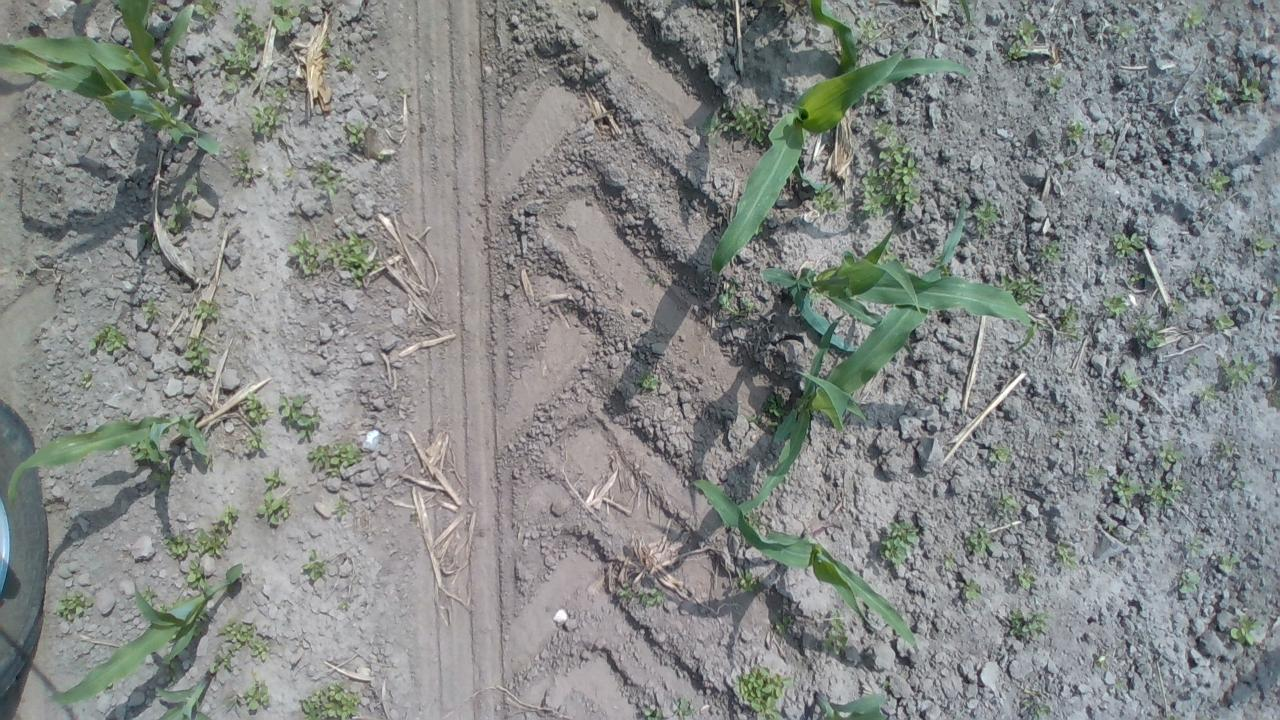Maize: (727, 198, 973, 520), (708, 44, 979, 274), (691, 474, 935, 658), (752, 244, 1041, 354), (47, 557, 253, 710), (0, 44, 230, 160), (2, 399, 222, 510), (7, 0, 210, 104), (150, 652, 233, 720), (804, 683, 898, 720)
Weeds: (858, 123, 928, 226), (730, 660, 789, 720), (304, 437, 378, 483), (326, 226, 378, 284), (216, 618, 278, 666), (296, 678, 364, 720), (706, 266, 758, 320), (1002, 10, 1056, 62), (162, 178, 206, 240), (250, 82, 296, 140), (211, 39, 261, 90), (284, 232, 330, 284), (1110, 477, 1186, 508), (160, 528, 237, 558), (875, 517, 921, 567), (730, 96, 776, 144), (276, 390, 322, 437), (610, 578, 676, 610), (1001, 606, 1056, 644), (182, 332, 222, 384), (1106, 230, 1160, 268), (1214, 346, 1258, 390), (302, 154, 348, 196), (754, 386, 794, 432), (228, 6, 268, 52), (638, 690, 696, 720), (818, 608, 854, 656), (809, 176, 847, 220), (232, 680, 278, 716), (998, 272, 1045, 307), (52, 592, 105, 623), (257, 486, 292, 531), (266, 0, 300, 46), (342, 116, 378, 158), (84, 321, 126, 356), (1046, 303, 1084, 340), (1096, 286, 1133, 322), (963, 522, 998, 560), (1189, 267, 1224, 305), (1133, 324, 1172, 358), (1232, 606, 1263, 648), (188, 292, 228, 324), (967, 200, 1008, 230), (236, 430, 272, 464), (1203, 160, 1231, 203), (1052, 539, 1086, 574), (231, 144, 263, 181), (294, 555, 336, 583), (124, 439, 160, 471), (1004, 564, 1040, 596), (1172, 570, 1208, 602), (1016, 689, 1054, 719), (179, 556, 208, 594), (1106, 18, 1144, 47), (128, 295, 164, 325), (991, 486, 1024, 518), (1172, 532, 1208, 561), (1233, 74, 1263, 108), (1040, 66, 1070, 100), (1176, 6, 1212, 34), (240, 390, 271, 422), (630, 362, 662, 393), (1036, 237, 1068, 268), (771, 610, 801, 640), (198, 0, 234, 24), (1208, 311, 1238, 339), (1198, 76, 1224, 108), (854, 12, 880, 44), (1094, 406, 1126, 431), (1248, 234, 1273, 264), (735, 569, 764, 594), (216, 506, 240, 536), (1162, 298, 1186, 328), (1094, 132, 1118, 162), (1222, 472, 1254, 494), (330, 494, 358, 519), (931, 552, 961, 574), (71, 363, 97, 387), (1156, 444, 1184, 466), (1064, 114, 1084, 143), (960, 580, 984, 604), (1216, 552, 1238, 577), (260, 468, 285, 489), (1126, 272, 1151, 292), (988, 443, 1014, 462), (1122, 370, 1140, 395), (335, 53, 358, 72), (1200, 388, 1220, 409), (1084, 462, 1100, 487), (137, 586, 159, 602), (284, 162, 296, 185), (319, 34, 334, 50), (336, 599, 354, 611)
